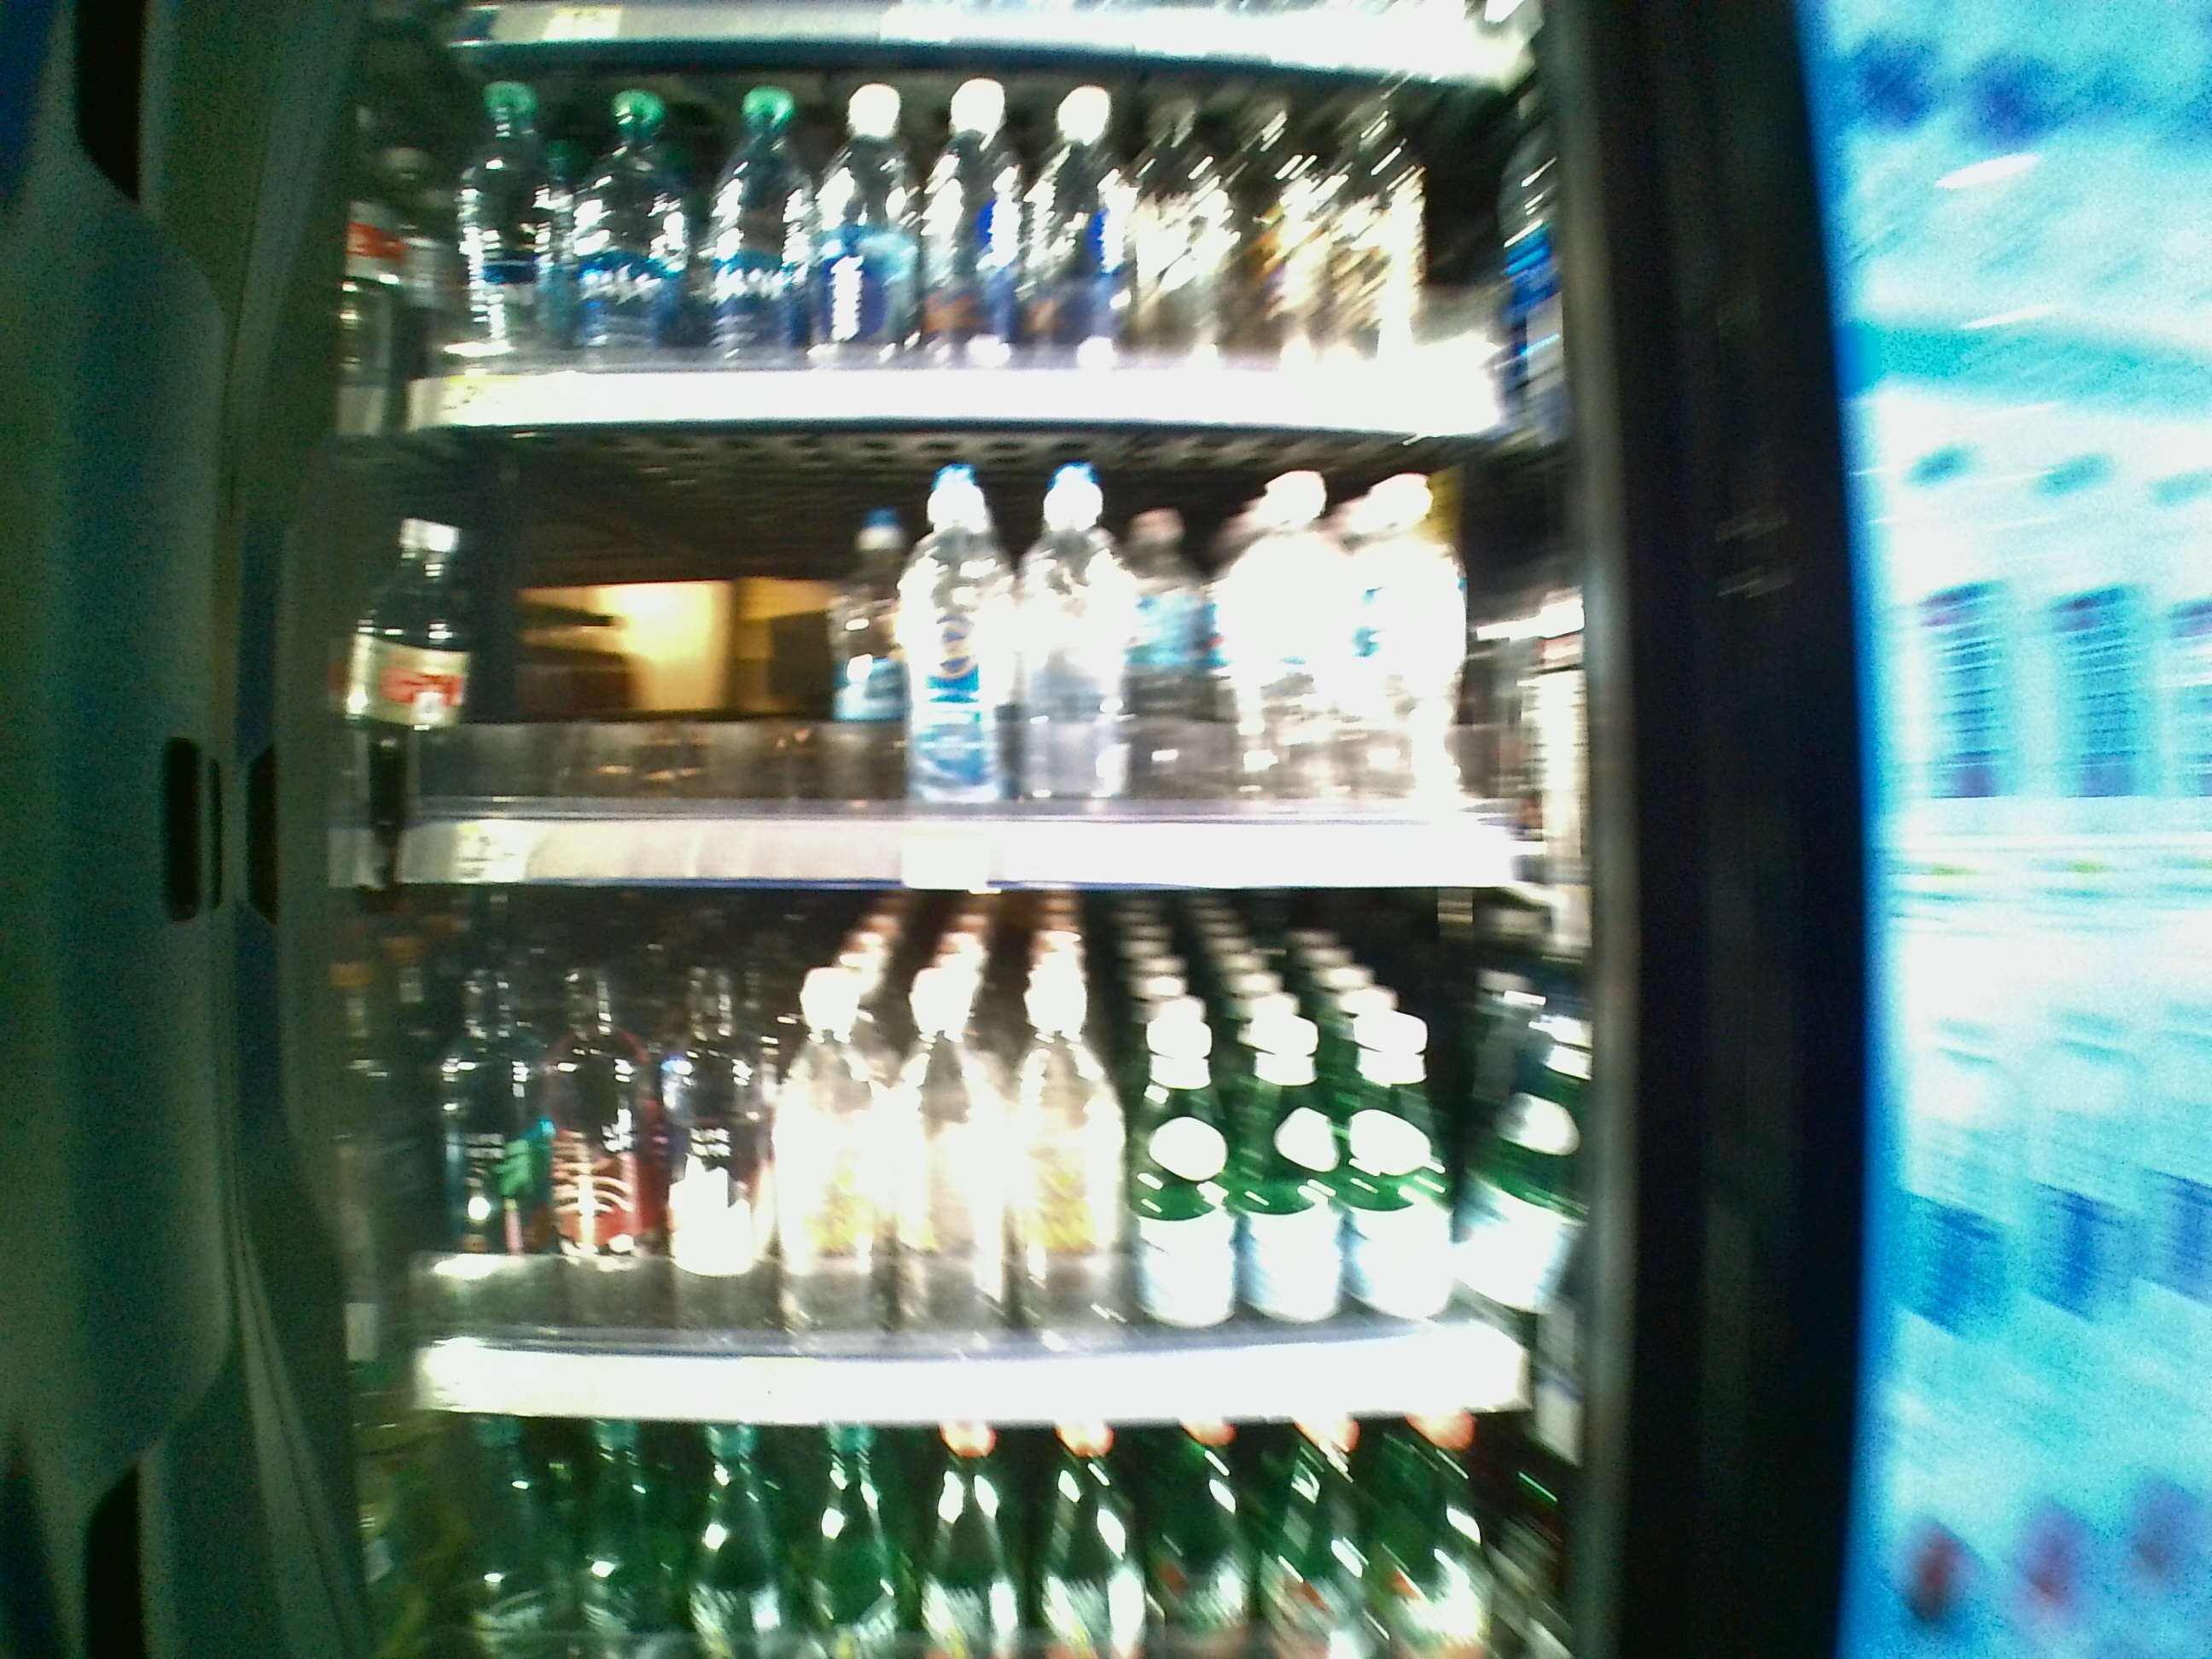shelf: (374, 889, 1559, 1419), (374, 427, 1545, 899)
